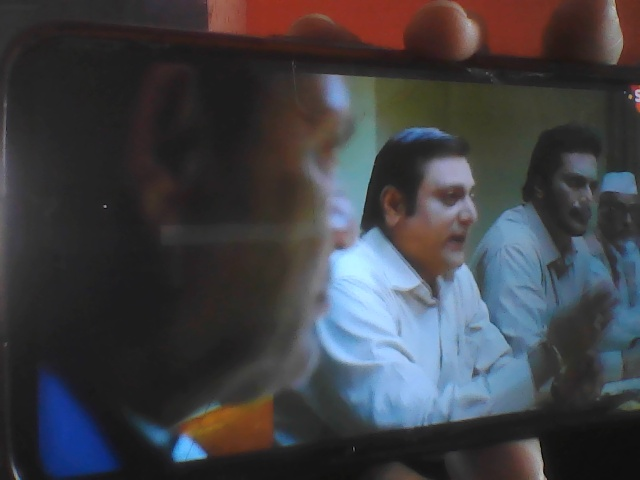fake: (383, 127, 492, 281)
